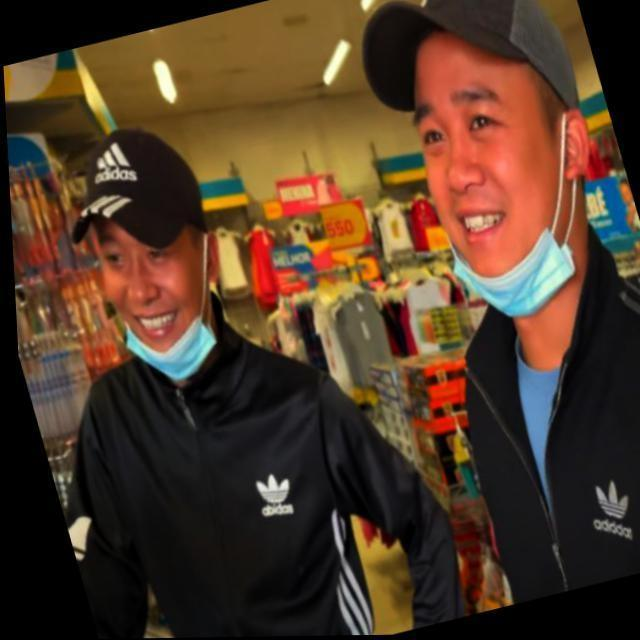hairnet: (403, 72, 587, 326), (90, 215, 223, 392)
